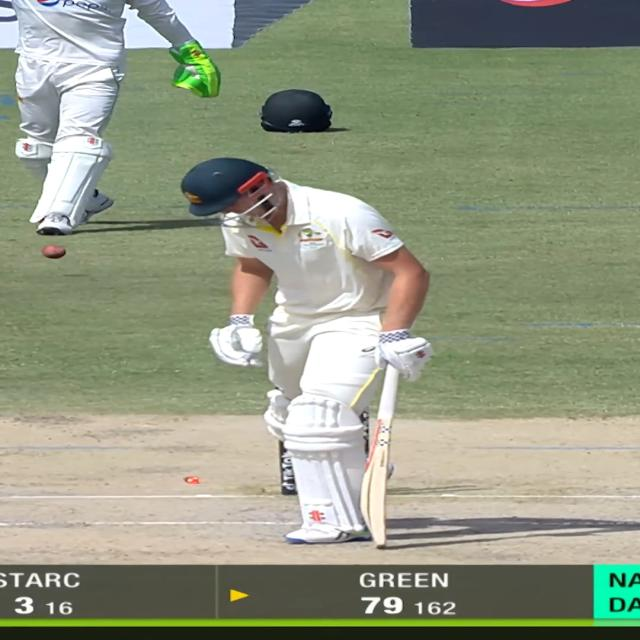Cricket ball: (40, 244, 68, 260)
